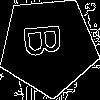B: (23, 21, 71, 59)
